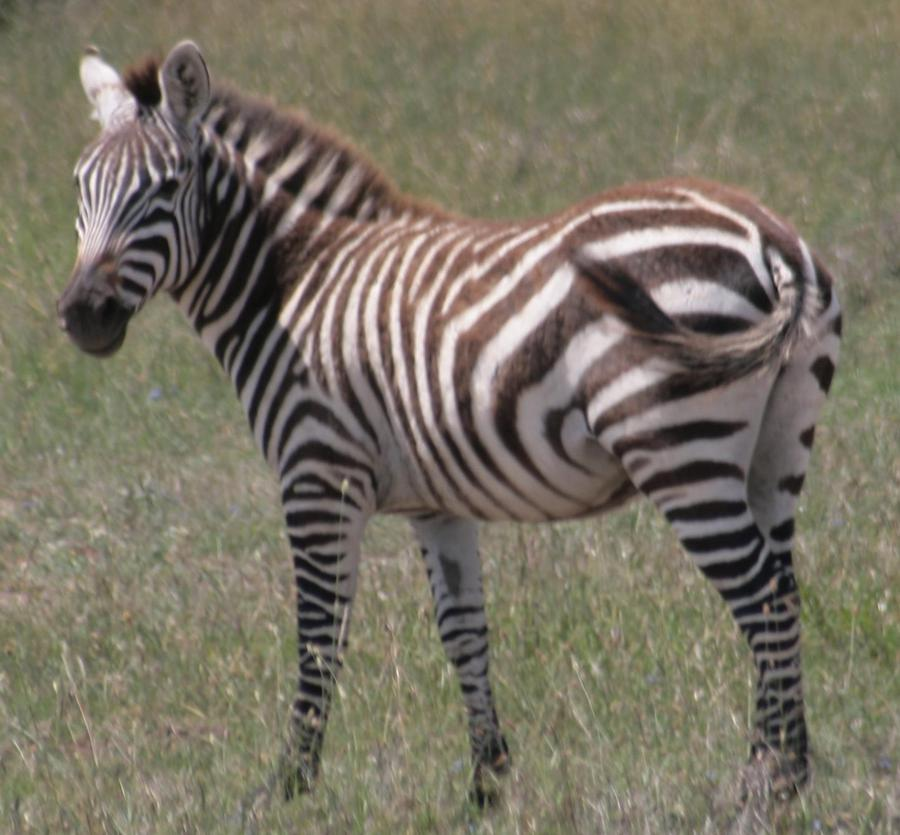zebra_plains: (214, 170, 730, 540)
